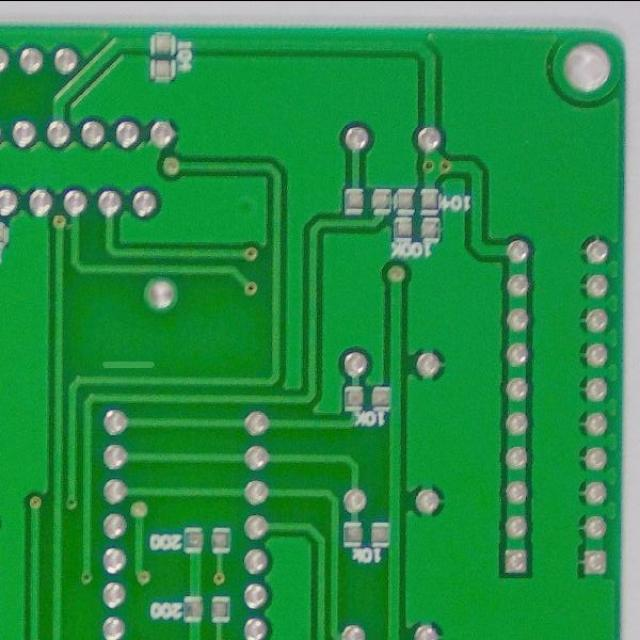Spurious_Cooper: (96, 357, 161, 372)
